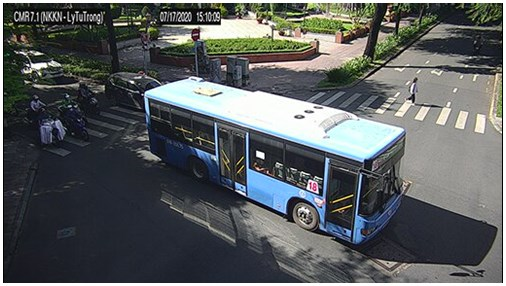di_bo: (406, 77, 419, 105)
xe_buyt: (143, 76, 402, 246)
xe_hoi: (105, 71, 161, 110), (15, 49, 63, 83)
xe_may: (38, 108, 66, 150), (62, 105, 90, 141), (61, 93, 88, 122), (28, 95, 50, 129), (77, 80, 99, 114), (472, 35, 484, 55)
